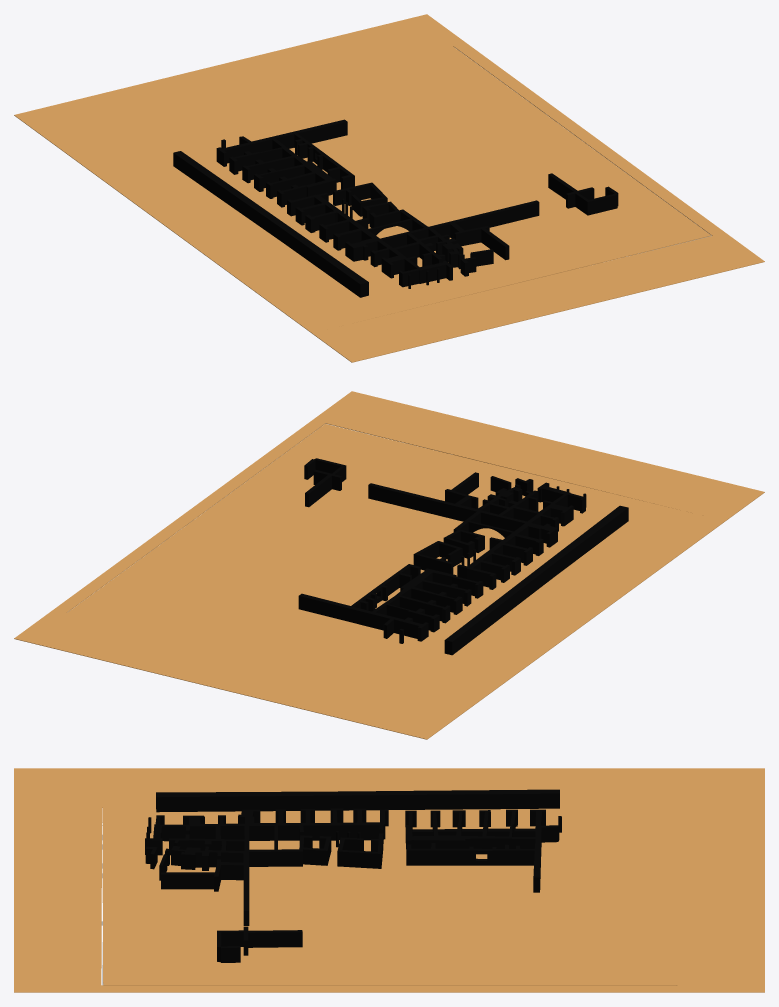
File: shopping St Tiberia v12.glb
The picture shows the model from 3 angles, top to bottom: view 1: azimuth 30°, elevation 25°; view 2: azimuth 150°, elevation 25°; view 3: azimuth 270°, elevation 25°; orthographic projection. The views are drawn at different scales.
Size of the model in its own units: 7.11 by 0.23 by 10.07.
